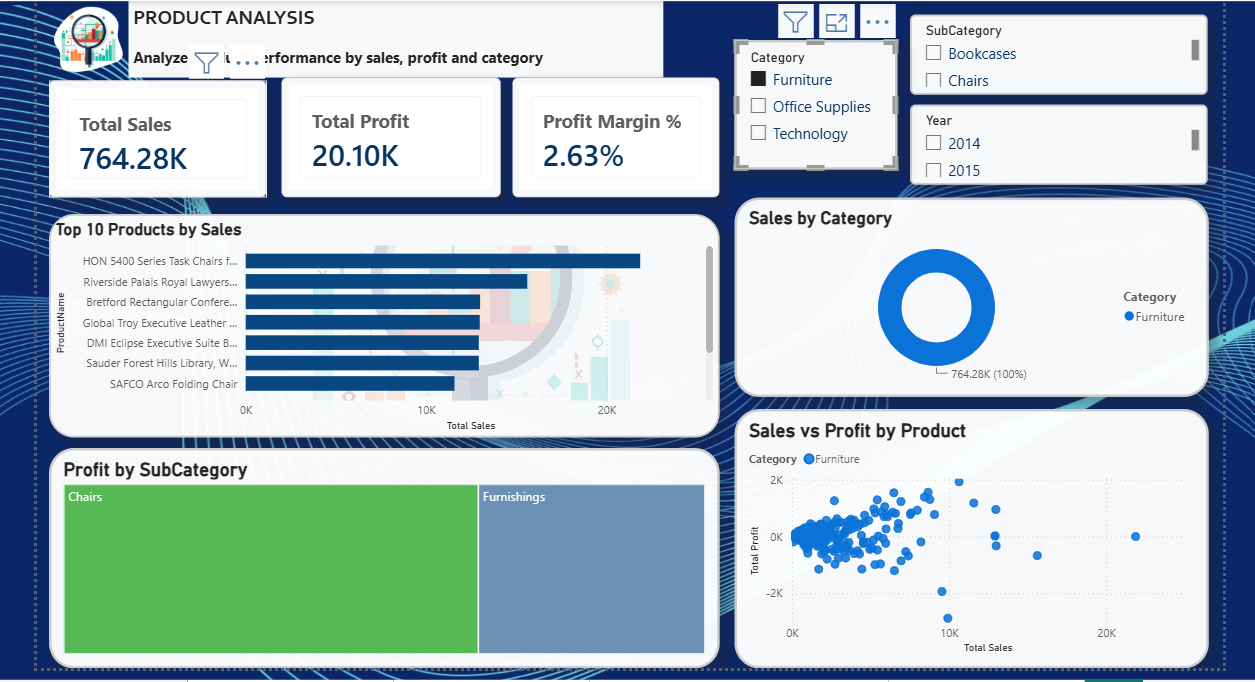

What the dashboard file says about the page in this screenshot:
{"tool":"powerbi","page":{"name":"Product Analysis","canvas":[1280,720],"ordinal":1},"visuals":[{"type":"textbox","box":[98.6,0,577.4,82.7],"z":0},{"type":"image","box":[12.7,0,85.9,82.7],"z":1000},{"type":"cardVisual","fields":{"Data":["FactSales.Total Sales"]},"box":[13,85.8,234.8,126.3],"z":2000},{"type":"cardVisual","fields":{"Data":["FactSales.Total Profit"]},"box":[263.9,82.6,236.4,129.5],"z":3000},{"type":"cardVisual","fields":{"Data":["FactSales.Profit Margin %"]},"box":[513.3,82.6,223.5,129.5],"z":4000},{"type":"clusteredBarChart","title":"Top 10 Products by Sales","fields":{"Category":["DimProduct.ProductName"],"Y":["FactSales.Total Sales"]},"box":[13,229.9,723.8,241.3],"z":5000},{"type":"donutChart","title":"Sales by Category","fields":{"Category":["DimProduct.Category"],"Y":["FactSales.Total Sales"]},"box":[752.1,211.7,512.1,215.4],"z":6000},{"type":"treemap","title":"Profit by SubCategory","fields":{"Group":["DimProduct.SubCategory"],"Values":["FactSales.Total Profit"]},"box":[13,482.5,723.8,238],"z":7000},{"type":"scatterChart","title":"Sales vs Profit by Product","fields":{"X":["FactSales.Total Sales"],"Y":["FactSales.Total Profit"],"Category":["DimProduct.ProductName"],"Series":["DimProduct.Category"]},"box":[752.1,440.3,512.1,279.7],"z":8000},{"type":"slicer","fields":{"Values":["DimProduct.Category"]},"box":[752.1,41.6,175.7,139.8],"z":9000},{"type":"slicer","fields":{"Values":["DimProduct.SubCategory"]},"box":[943,15.1,321.3,86.9],"z":10000},{"type":"slicer","fields":{"Values":["DimDate.Year"]},"box":[943,111.5,321.3,86.9],"z":11000}]}

Visuals, with their boxes in screenshot pixels (x1, y1, x2, y2):
textbox: box(118, 0, 659, 71)
image: box(38, 0, 118, 71)
cardVisual - FactSales.Total Sales: box(38, 74, 258, 192)
cardVisual - FactSales.Total Profit: box(273, 71, 494, 192)
cardVisual - FactSales.Profit Margin %: box(506, 71, 715, 192)
"Top 10 Products by Sales" clusteredBarChart: box(38, 209, 715, 434)
"Sales by Category" donutChart: box(730, 192, 1209, 393)
"Profit by SubCategory" treemap: box(38, 445, 715, 668)
"Sales vs Profit by Product" scatterChart: box(730, 405, 1209, 667)
slicer - DimProduct.Category: box(730, 32, 894, 163)
slicer - DimProduct.SubCategory: box(908, 8, 1209, 89)
slicer - DimDate.Year: box(908, 98, 1209, 179)
